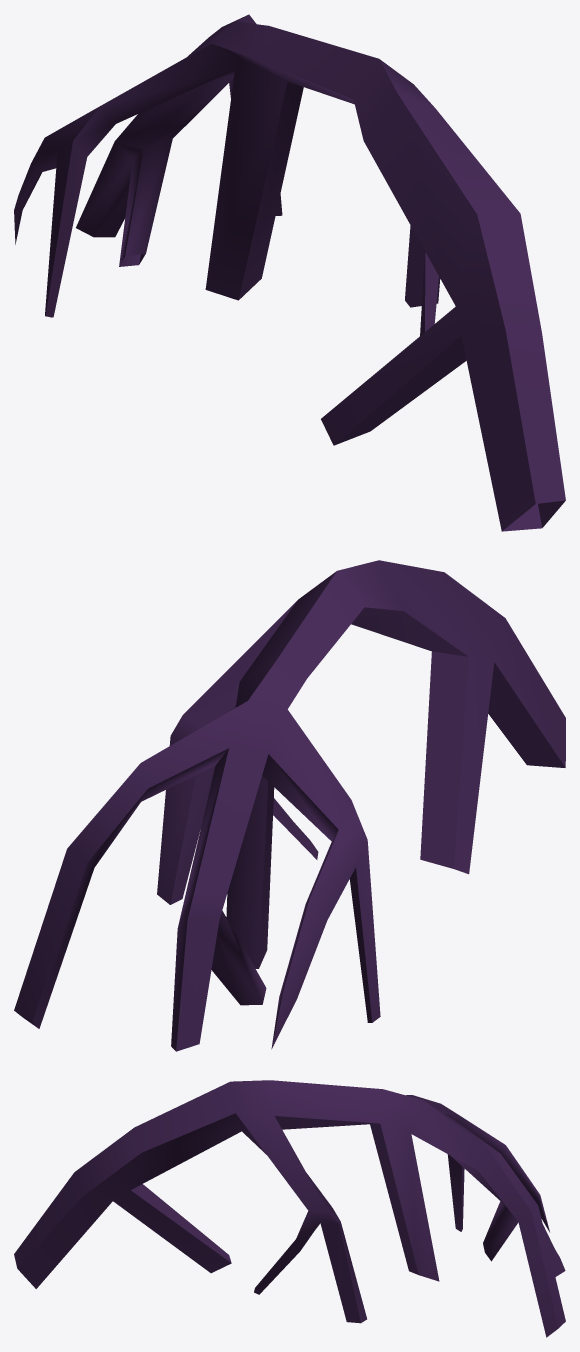
3 renders of one model, top to bottom at view 1: azimuth 30°, elevation 25°; view 2: azimuth 150°, elevation 25°; view 3: azimuth 270°, elevation 25°, orthographic. The views are drawn at different scales.
Parts seen in each view (by area): view 1: mangrovebranch4; view 2: mangrovebranch4; view 3: mangrovebranch4.
Boxes of the visible parts, left/top/right/bottom form: mangrovebranch4: left=14, top=14, right=565, bottom=531; mangrovebranch4: left=14, top=560, right=565, bottom=1051; mangrovebranch4: left=14, top=1080, right=565, bottom=1337.
Bounding box in the file's own units: 2.16 × 2.27 × 5.14.
